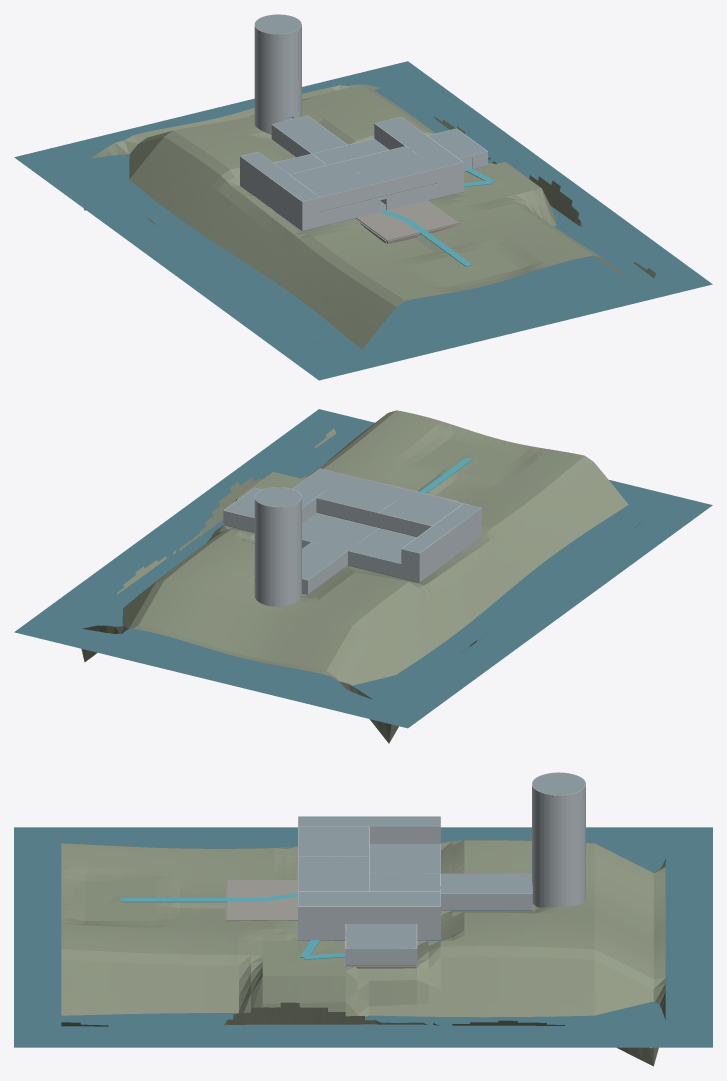
File: deck-terrain.glb
3 views of the same model, one above another, from view 1: azimuth 30°, elevation 25°; view 2: azimuth 150°, elevation 25°; view 3: azimuth 270°, elevation 25° (orthographic). The views are drawn at different scales.
Visible parts, largest first — view 1: WATER PLACEHOLDER / layers and transparency pending, Saved editor terrain WLD-14, Ceiling cap study, Ceiling cap bed, Ceiling cap upperhall, Ceiling cap passage, Ceiling cap service-upper, Wall service-stair W, Ceiling cap store, Wall service-upper W, Wall study S, Ceiling cap generator (+10 smaller); view 2: Saved editor terrain WLD-14, WATER PLACEHOLDER / layers and transparency pending, Ceiling cap study, Ceiling cap store, Ceiling cap bed, Ceiling cap workroom, Ceiling cap service-upper, Wall service-stair W, Ceiling cap passage, Wall service-upper W, Wall study N, Ceiling cap upperhall (+10 smaller); view 3: Saved editor terrain WLD-14, WATER PLACEHOLDER / layers and transparency pending, Ceiling cap study, Wall upperhall E, Ceiling cap bed, Ceiling cap upperhall, Ceiling cap workroom, Ceiling cap passage, Ceiling cap generator, Ceiling cap service-upper, Wall passage E, Ceiling cap store (+14 smaller).
Part boxes in pixels (<box>): WATER PLACEHOLDER / layers and transparency pending: <box>14,61,712,380</box>; Saved editor terrain WLD-14: <box>84,84,656,349</box>; Ceiling cap study: <box>343,146,436,183</box>; Ceiling cap bed: <box>290,161,373,196</box>; Ceiling cap upperhall: <box>375,117,462,168</box>; Ceiling cap passage: <box>272,115,346,153</box>; Ceiling cap service-upper: <box>241,152,319,201</box>; Wall service-stair W: <box>240,170,302,230</box>; Ceiling cap store: <box>313,138,389,164</box>; Wall service-upper W: <box>240,156,302,215</box>; Wall study S: <box>374,169,436,198</box>; Ceiling cap generator: <box>428,129,486,158</box>; Saved editor terrain WLD-14: <box>81,410,640,743</box>; WATER PLACEHOLDER / layers and transparency pending: <box>14,409,712,728</box>; Ceiling cap study: <box>317,475,409,512</box>; Ceiling cap store: <box>302,513,377,550</box>; Ceiling cap bed: <box>379,490,462,525</box>; Ceiling cap workroom: <box>348,528,416,563</box>; Ceiling cap service-upper: <box>402,504,480,552</box>; Wall service-stair W: <box>419,522,481,582</box>; Ceiling cap passage: <box>302,542,346,579</box>; Wall service-upper W: <box>419,508,481,567</box>; Wall study N: <box>316,498,378,527</box>; Ceiling cap upperhall: <box>292,468,346,507</box>; Saved editor terrain WLD-14: <box>61,840,665,1066</box>; WATER PLACEHOLDER / layers and transparency pending: <box>14,827,712,1047</box>; Ceiling cap study: <box>298,856,369,891</box>; Wall upperhall E: <box>298,906,440,922</box>; Ceiling cap bed: <box>298,826,369,856</box>; Ceiling cap upperhall: <box>298,892,440,906</box>; Ceiling cap workroom: <box>370,844,440,873</box>; Ceiling cap passage: <box>440,873,532,893</box>; Ceiling cap generator: <box>345,924,416,948</box>; Ceiling cap service-upper: <box>298,816,440,826</box>; Wall passage E: <box>441,893,532,909</box>; Ceiling cap store: <box>370,873,440,891</box>.
Bounding box in the file's own units: 88 × 38.28 × 118.
